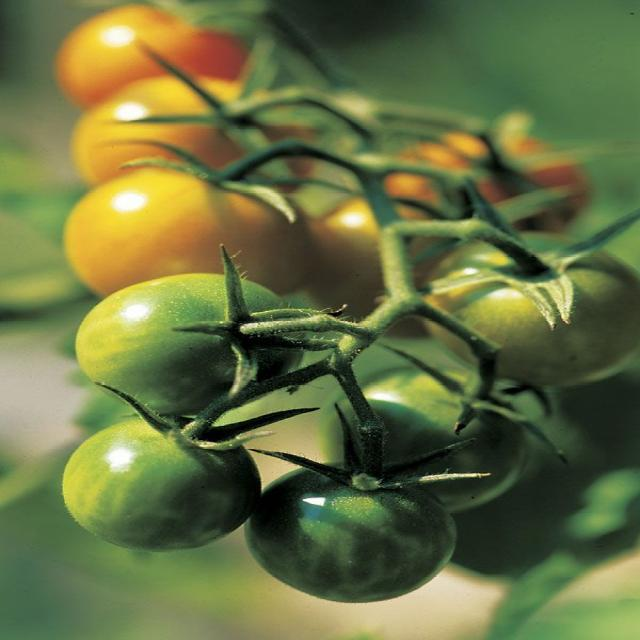level 1: (248, 463, 457, 610)
level 2: (69, 276, 302, 416), (58, 417, 265, 553), (329, 370, 526, 504)
level 3: (423, 235, 640, 382)
level 4: (69, 166, 304, 314), (77, 74, 313, 208), (60, 1, 239, 120)
